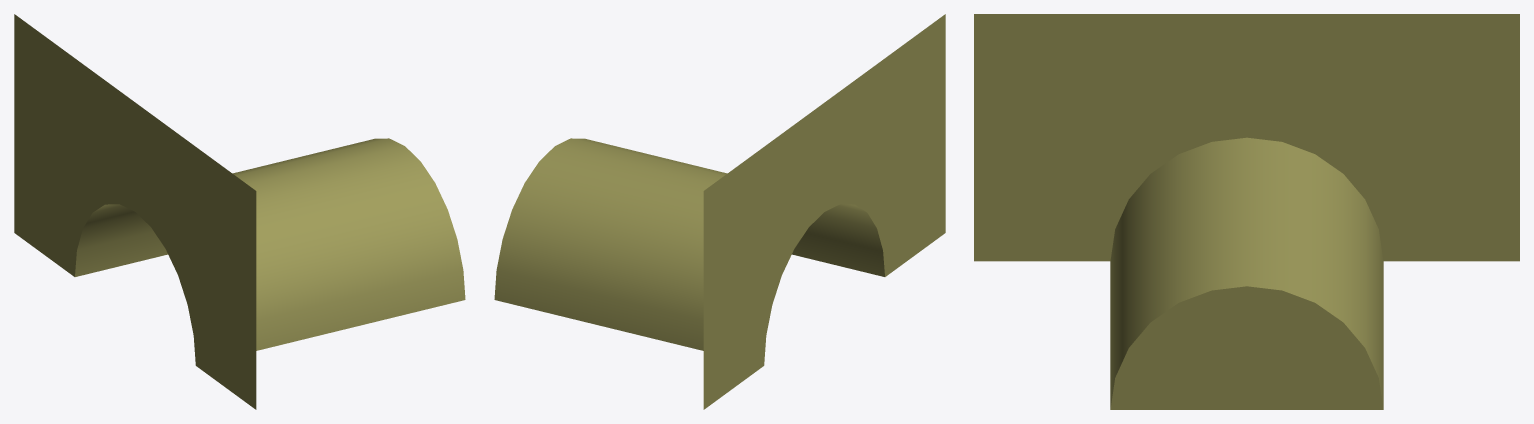
Rendered from mesh_ParedCurvaCastillo.fbx.
3 views of the same model, side by side, from view 1: azimuth 30°, elevation 25°; view 2: azimuth 150°, elevation 25°; view 3: azimuth 270°, elevation 25° (orthographic). The views are drawn at different scales.
Visible parts, largest first — view 1: mesh_ParedCurvaCastillo; view 2: mesh_ParedCurvaCastillo; view 3: mesh_ParedCurvaCastillo.
Part boxes in pixels (box(x1,y1,x2,y2)): mesh_ParedCurvaCastillo: box(14, 14, 465, 409); mesh_ParedCurvaCastillo: box(494, 14, 945, 409); mesh_ParedCurvaCastillo: box(974, 14, 1519, 409).
Bounding box in the file's own units: 3092 × 2400 × 4800.
